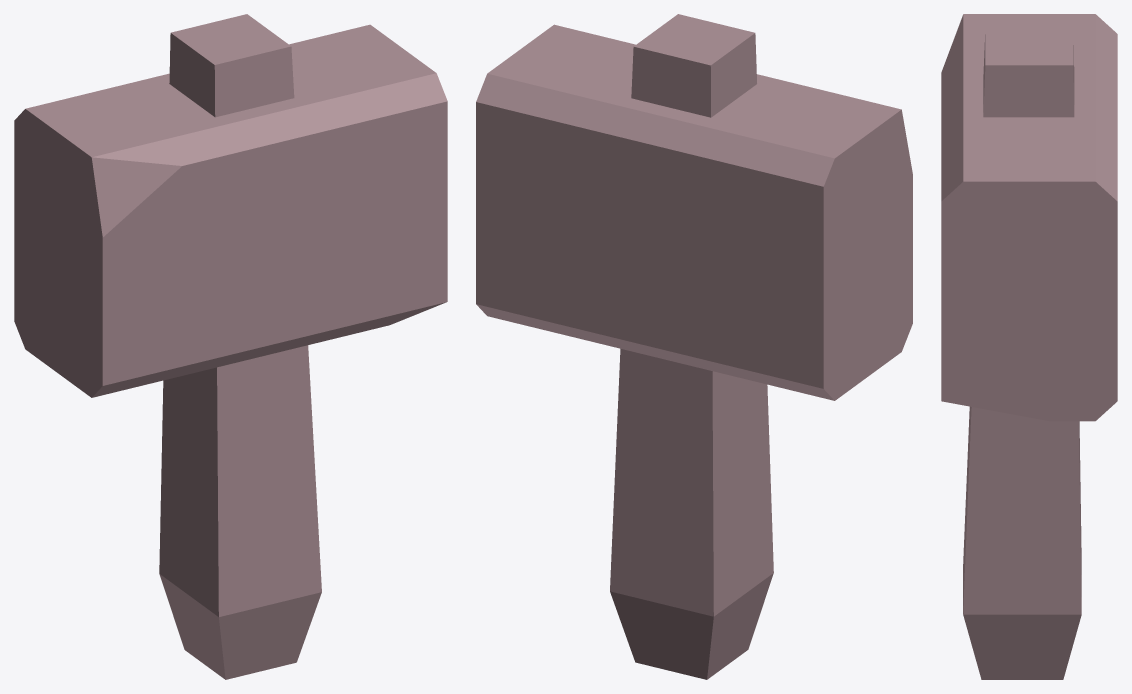
Rendered from tool-hammer.obj.
3 views of the same model, side by side, from view 1: azimuth 30°, elevation 25°; view 2: azimuth 150°, elevation 25°; view 3: azimuth 270°, elevation 25° (orthographic).
Size of the model in its own units: 0.09 by 0.1535 by 0.04.
